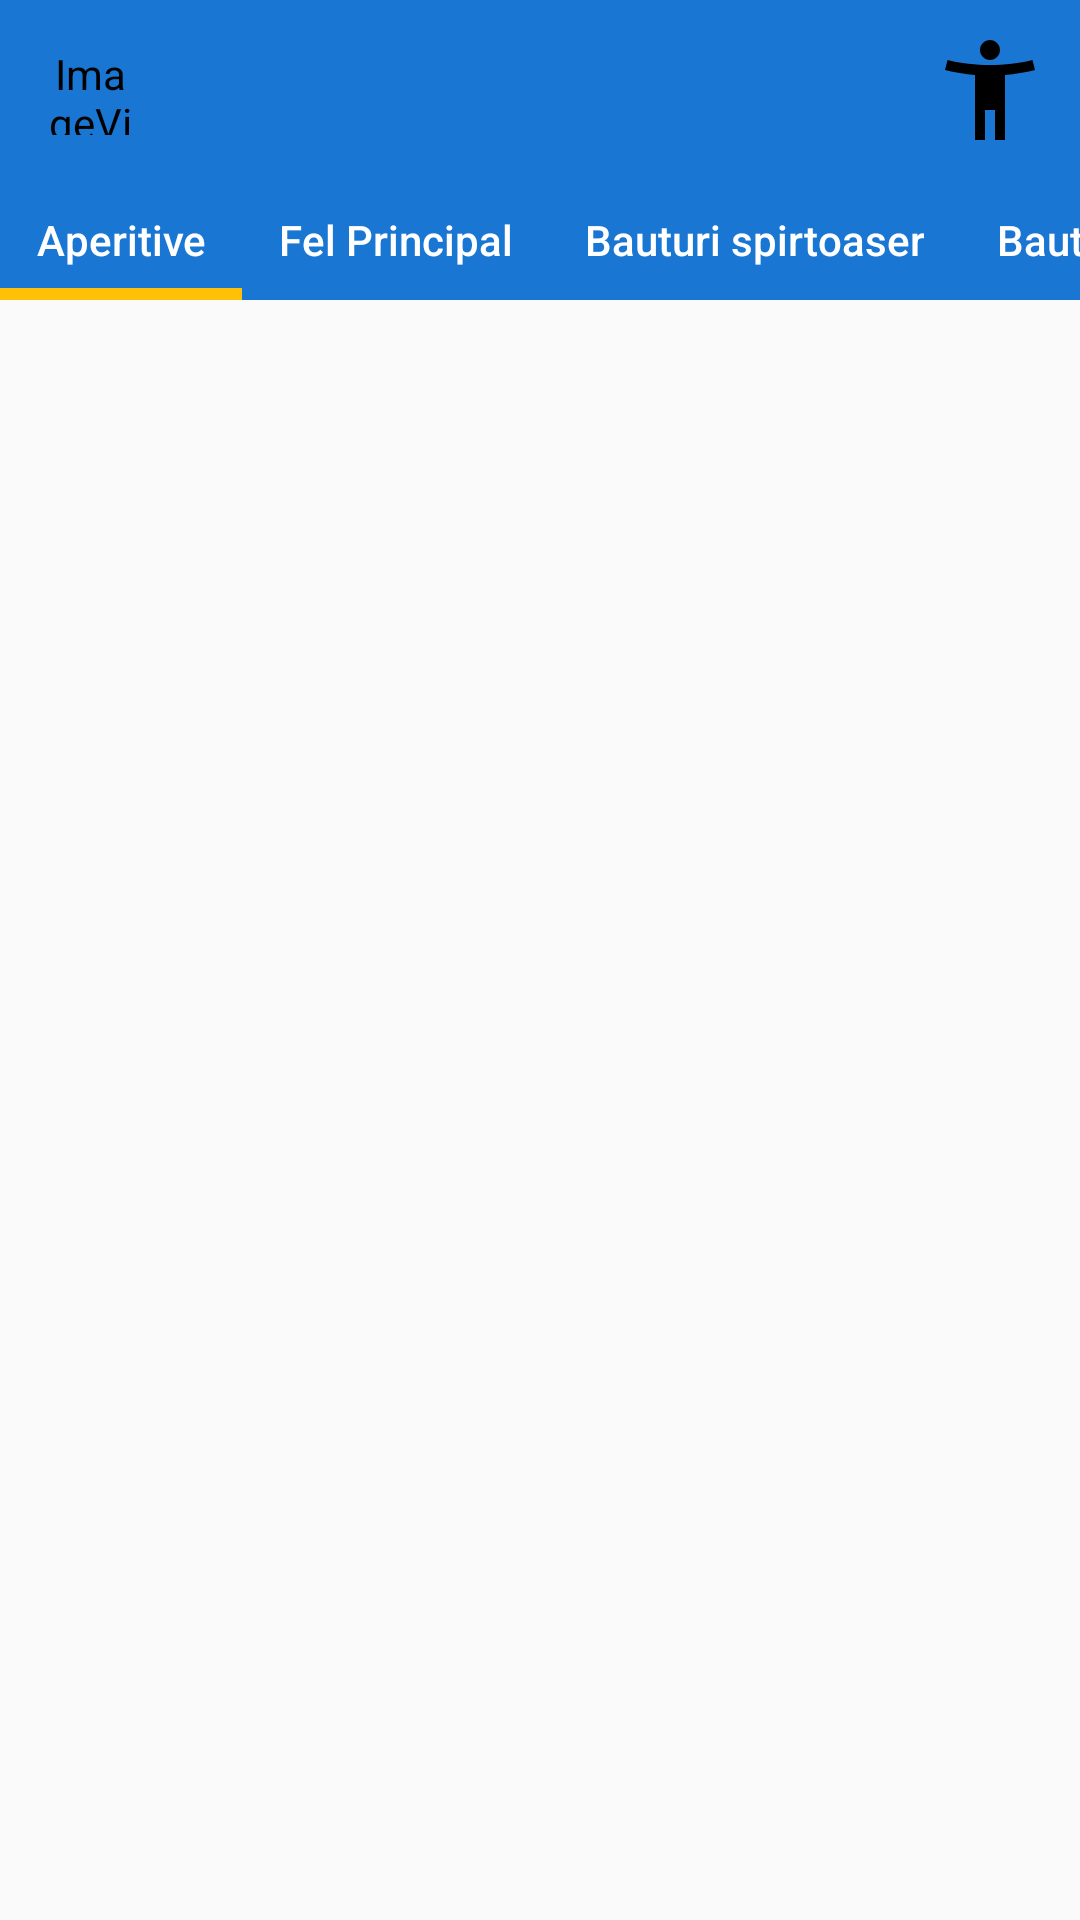

Point at icon controls on the screen. Image size 1080px x 1920px, points as point (x, y).
accessibility: point (990, 90)
